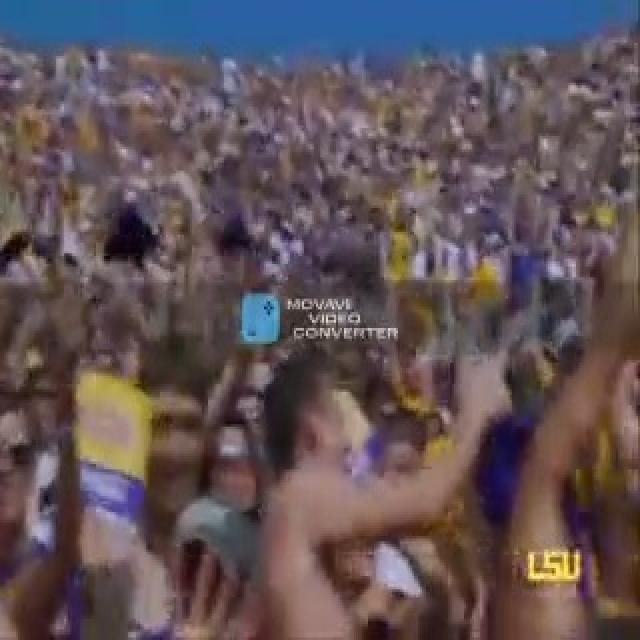non-voilence: (0, 30, 638, 638), (506, 541, 586, 587), (236, 288, 282, 347)
